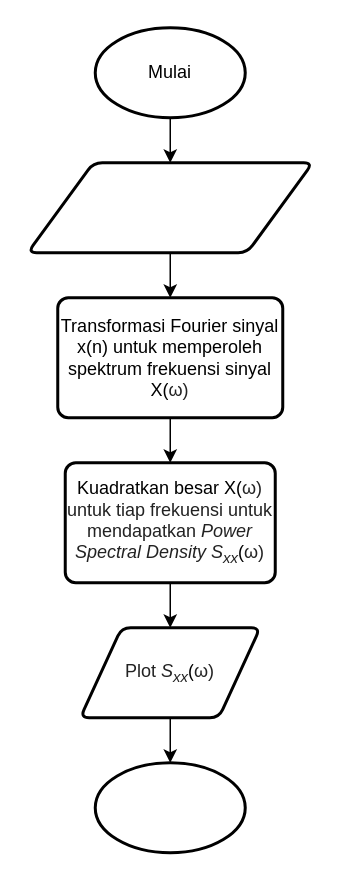
Some shapes in this 339 by 879 pixel diagram are drawn without their labels. The box of each missing label's shape, as (x1, y1, x2, y2) in pixels:
Baca sinyal x(n) dari file: (26, 160, 314, 254)
Selesai: (93, 760, 246, 854)
